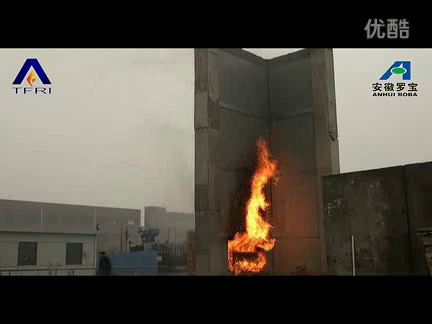fire: (222, 135, 284, 273)
